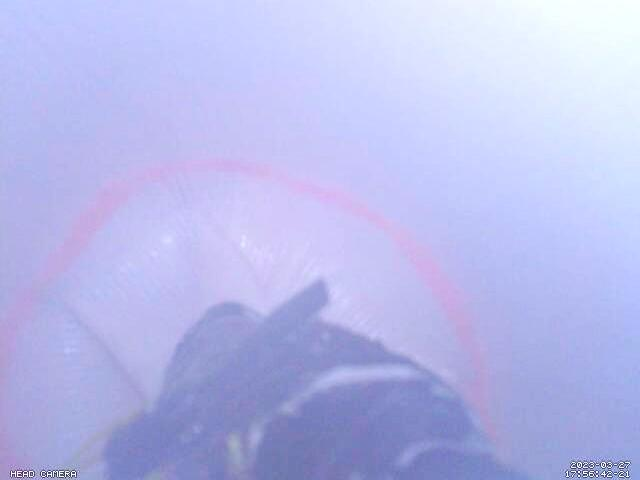head: (0, 157, 501, 480)
